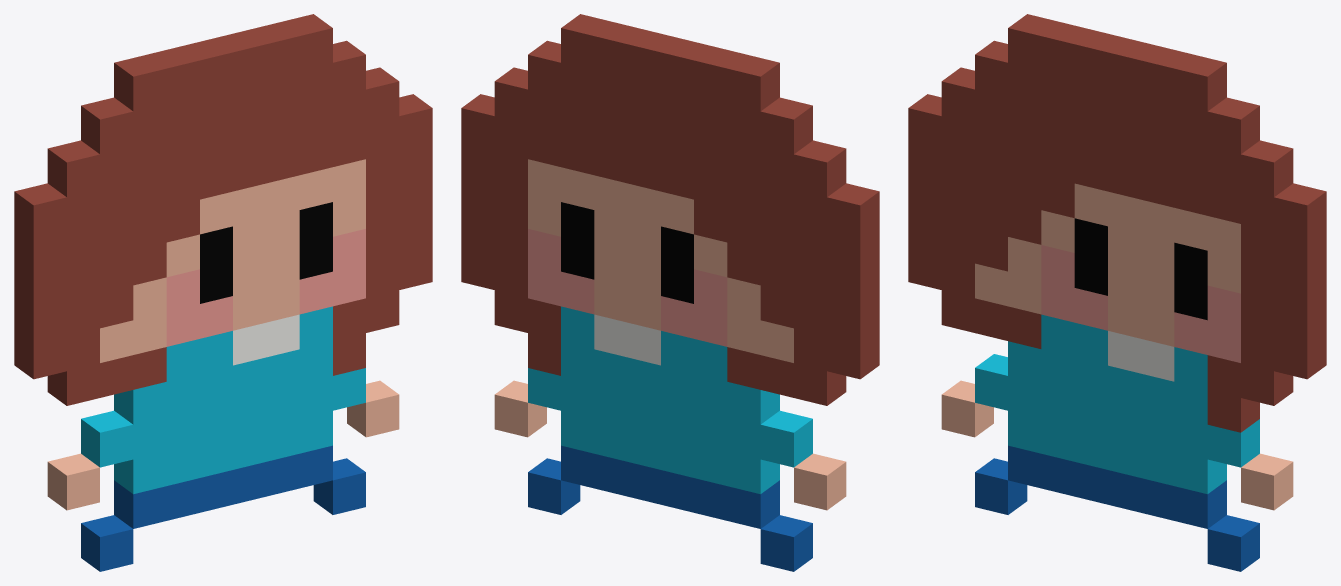
Rendered from player_jump.obj.
3 renders of one model, left to right at view 1: azimuth 30°, elevation 25°; view 2: azimuth 150°, elevation 25°; view 3: azimuth 330°, elevation 25°, orthographic.
Bounding box in the file's own units: 1.2 × 1.4 × 0.1.
1 material, 1 textured.
